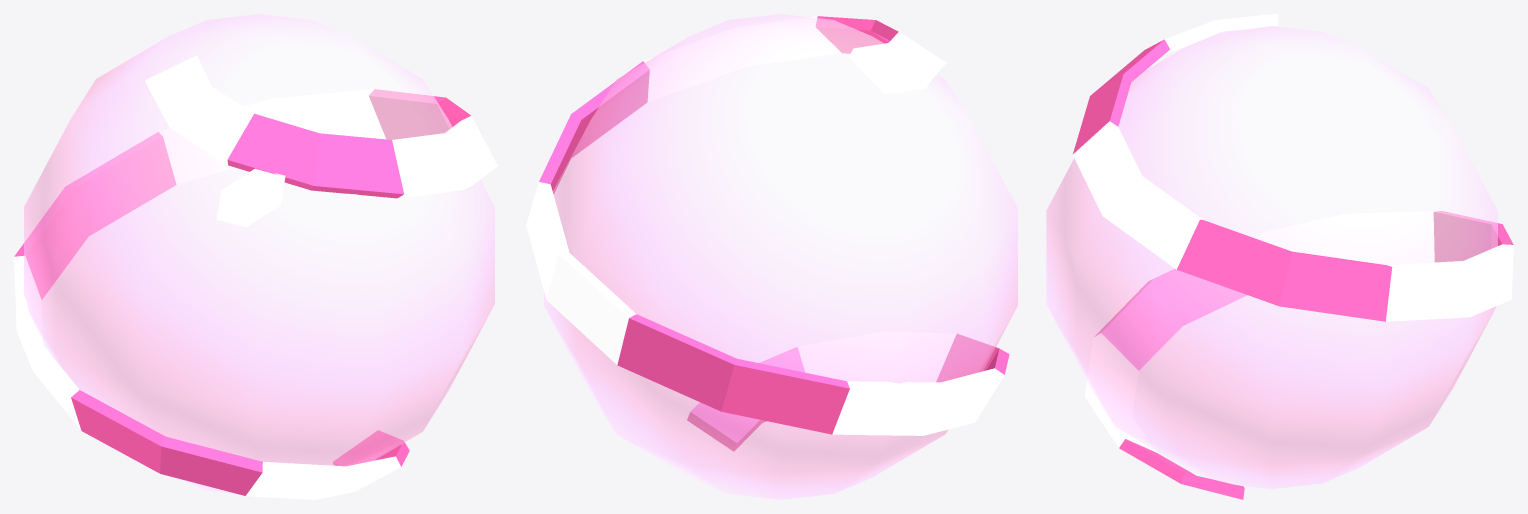
File: awa-pink.glb
The picture shows the model from 3 angles, left to right: view 1: azimuth 30°, elevation 25°; view 2: azimuth 150°, elevation 25°; view 3: azimuth 270°, elevation 25°; orthographic projection. The views are drawn at different scales.
Parts seen in each view (by area): view 1: awa-pink; view 2: awa-pink; view 3: awa-pink.
Part boxes in pixels (x1,y1,x2,y2): awa-pink: [14, 14, 497, 499]; awa-pink: [526, 14, 1017, 499]; awa-pink: [1046, 14, 1513, 499].
Size of the model in its own units: 1.41 by 1.41 by 1.41.
